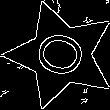O_E: (28, 26, 93, 84)
